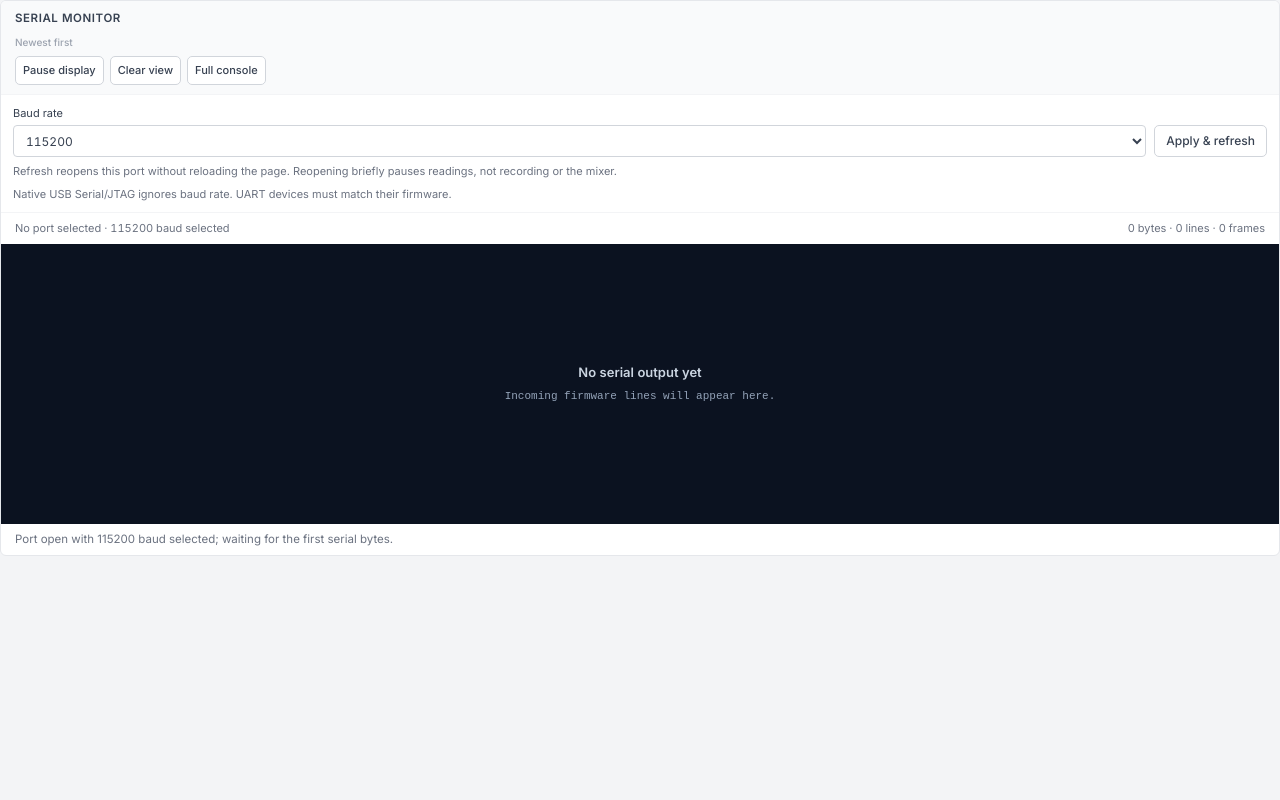
baud selection is labelled and requires Apply; displayed active rate does not change prematurely
Select "57600" in the dropdown labelled "Baud rate" at (580, 141), box [13, 125, 1146, 157]
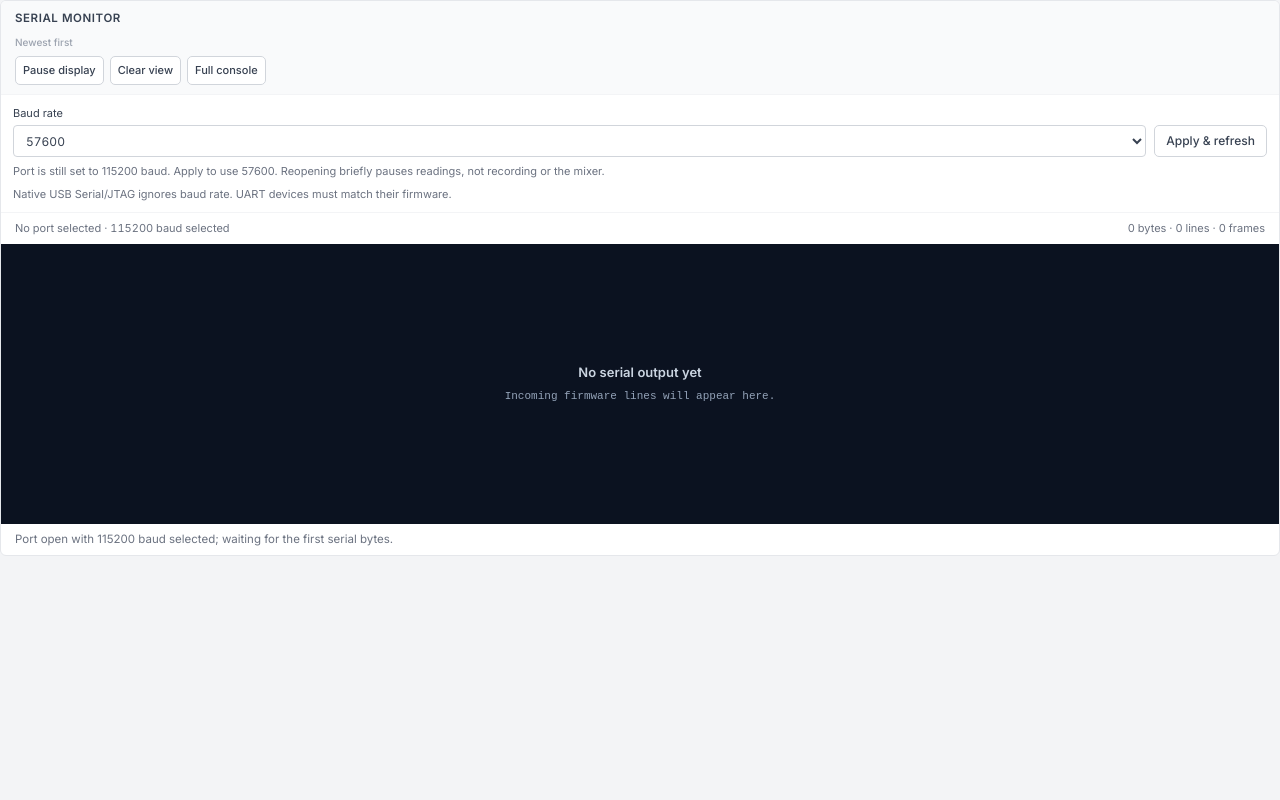
Expected: the element with class "serial-monitor-stats" shows "115200 baud selected", [110, 221, 230, 235]
Expected: the text with id "serial-baud-help" shows "Apply to use 57600", [13, 164, 278, 178]
Click the button "Apply & refresh".
click(1211, 141)  # box [1154, 125, 1267, 157]
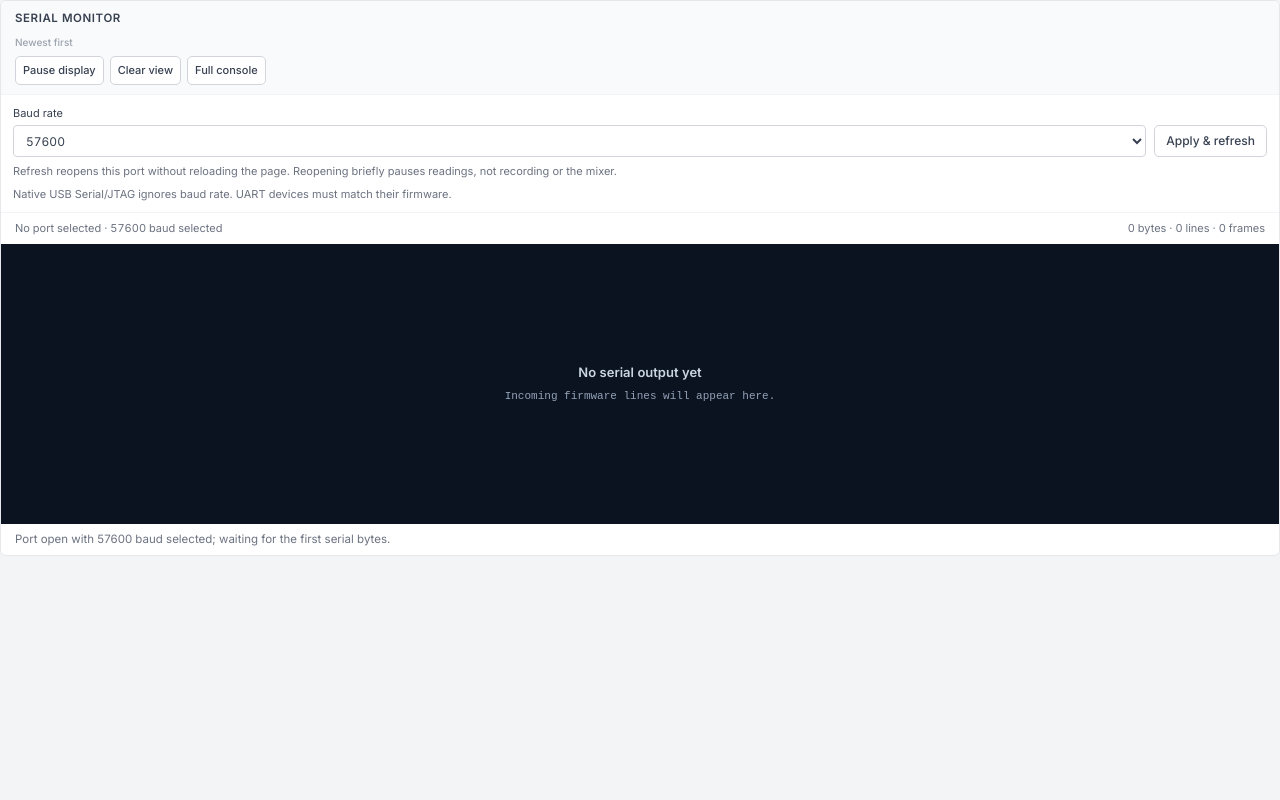
Expected: the element with class "serial-monitor-stats" shows "57600 baud selected", [110, 221, 222, 235]
Expected: the text "Apply to use" is gone
